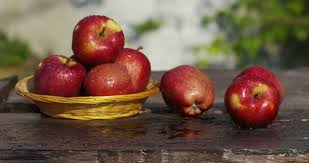apple: (159, 68, 215, 116), (224, 79, 282, 123), (31, 56, 83, 97), (76, 19, 126, 61), (113, 47, 154, 88), (85, 65, 128, 96)
